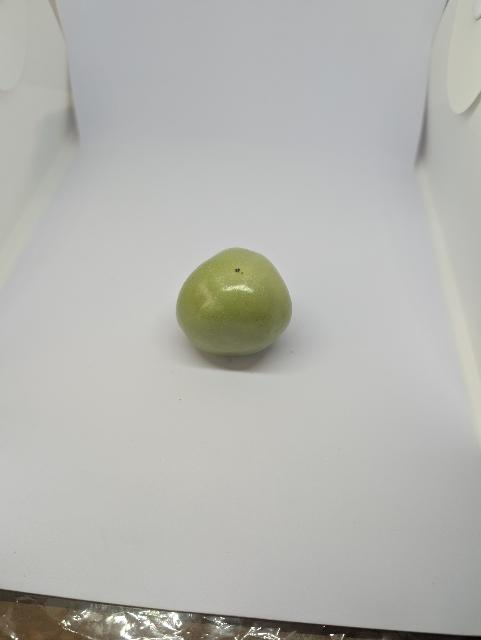green: (174, 247, 295, 360)
